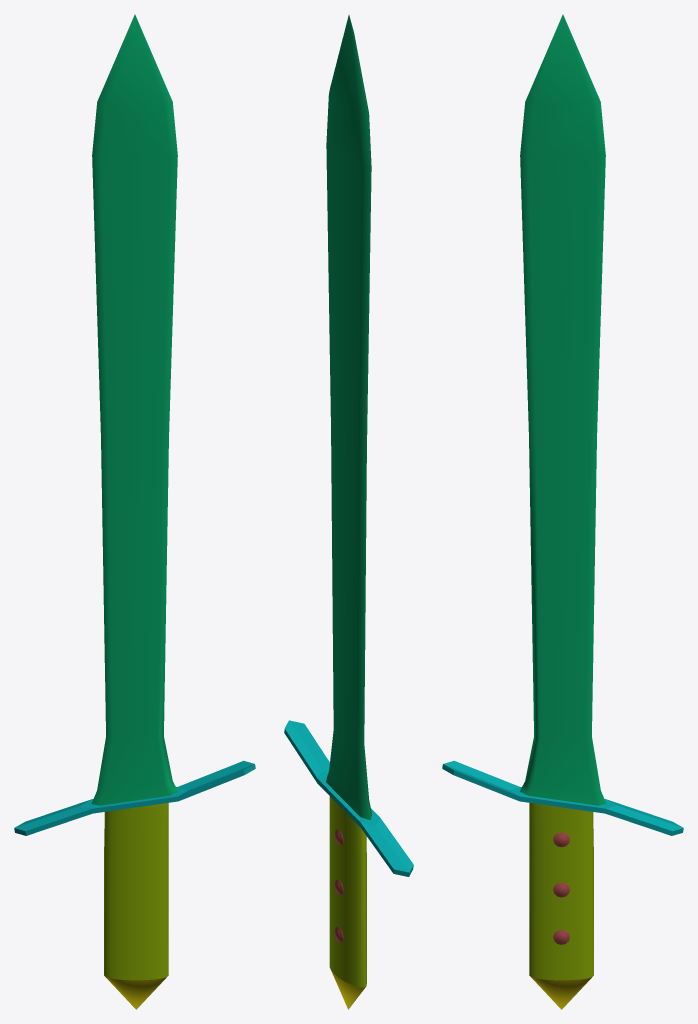
The model's file is Player_Sword.fbx.
3 views of the same model, side by side, from view 1: azimuth 90°, elevation 25°; view 2: azimuth 210°, elevation 25°; view 3: azimuth 270°, elevation 25° (orthographic).
Parts seen in each view (by area): view 1: Short_Sword; view 2: Short_Sword; view 3: Short_Sword.
Part boxes in pixels (left/top/right/bottom): Short_Sword: left=14, top=14, right=255, bottom=1009; Short_Sword: left=284, top=15, right=413, bottom=1009; Short_Sword: left=442, top=14, right=683, bottom=1009.
Bounding box in the file's own units: 0.1626 × 7.19 × 1.58.
